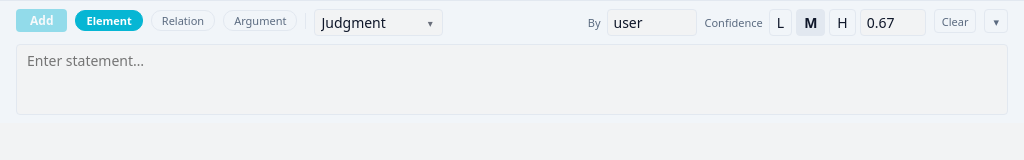
it: clearing a tab › empties the statement on the element tab
In the text box with placeholder "Enter statement…": (512, 79) [16,44,1008,115], type "Torturing is wrong."
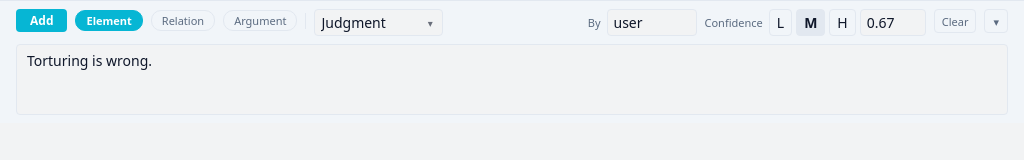
Click the button "Clear": (955, 21) [934,9,976,33]
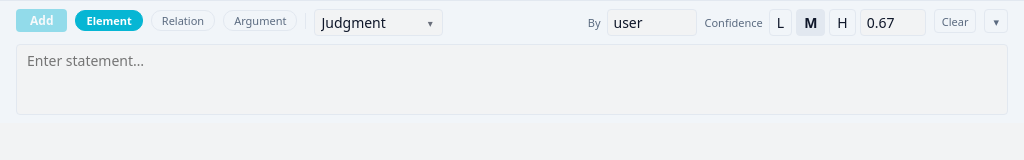
Result: the text box with placeholder "Enter statement…" is empty at [16,44,1008,115]
